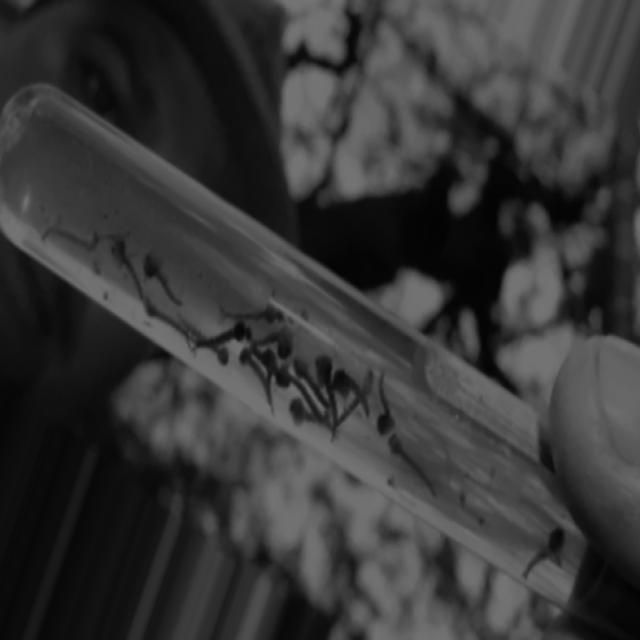larvas: (310, 346, 343, 437), (336, 367, 378, 433), (277, 361, 324, 419), (390, 434, 433, 493), (185, 317, 233, 368), (334, 362, 374, 423), (291, 353, 330, 413), (113, 238, 144, 305), (522, 530, 566, 577), (191, 319, 251, 353), (146, 249, 180, 308), (288, 395, 332, 440), (239, 347, 271, 400), (254, 322, 295, 362), (144, 307, 186, 340), (40, 228, 100, 249), (378, 371, 394, 436), (263, 353, 278, 414), (230, 307, 283, 322), (459, 492, 483, 523)
